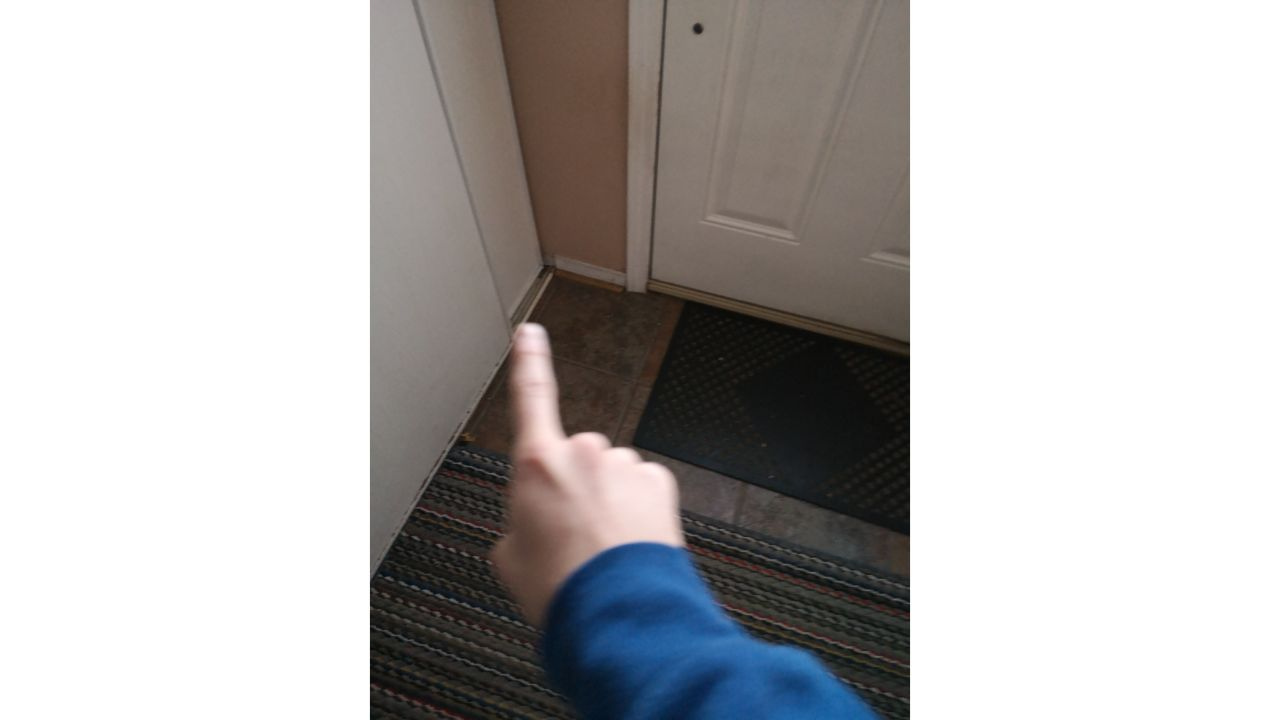finger: (492, 318, 719, 627)
